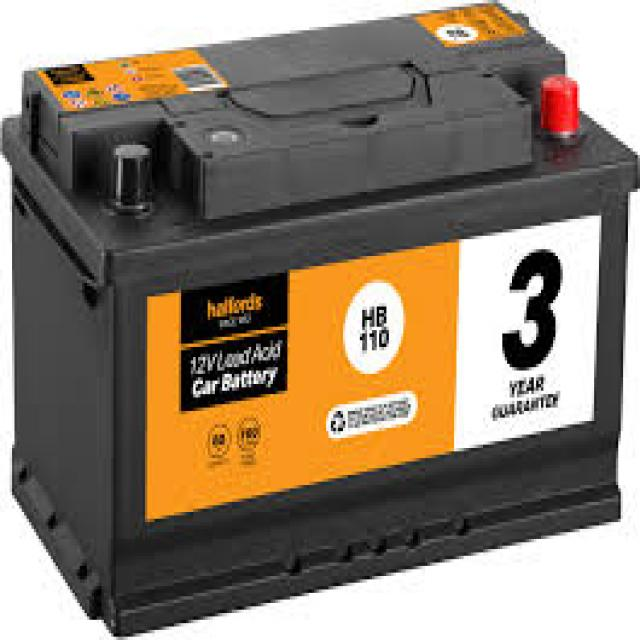non-organic waste: (2, 5, 640, 632)
